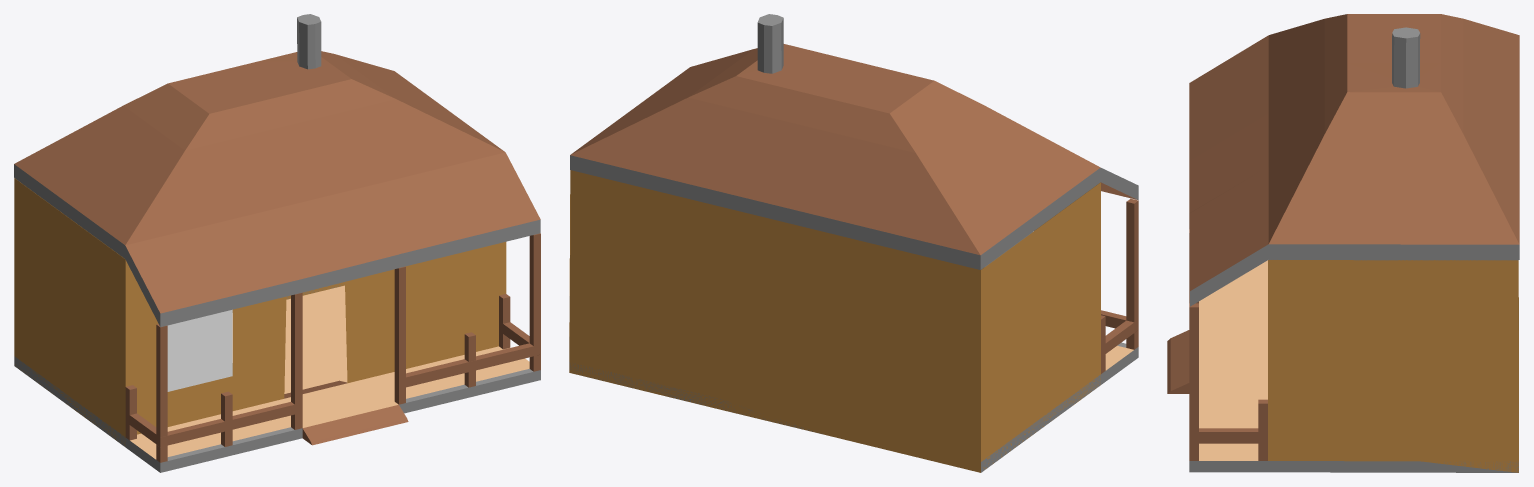
Rendered from House2.fbx.
The picture shows the model from 3 angles, left to right: view 1: azimuth 30°, elevation 25°; view 2: azimuth 150°, elevation 25°; view 3: azimuth 270°, elevation 25°; orthographic projection. The views are drawn at different scales.
Parts seen in each view (by area): view 1: House.001, House, House.002, Window; view 2: House, House.001, House.002; view 3: House.001, House, House.002.
Boxes of the visible parts, bbox=[...] form: House.001: bbox=[14, 14, 540, 327]; House: bbox=[14, 178, 540, 472]; House.002: bbox=[14, 282, 347, 447]; Window: bbox=[167, 309, 232, 391]; House: bbox=[569, 170, 1138, 461]; House.001: bbox=[570, 14, 1138, 269]; House.002: bbox=[569, 362, 1100, 472]; House.001: bbox=[1189, 14, 1519, 306]; House: bbox=[1167, 228, 1518, 472]; House.002: bbox=[1268, 259, 1518, 472].
Bounding box in the file's own units: 15835 × 12839 × 11224.
